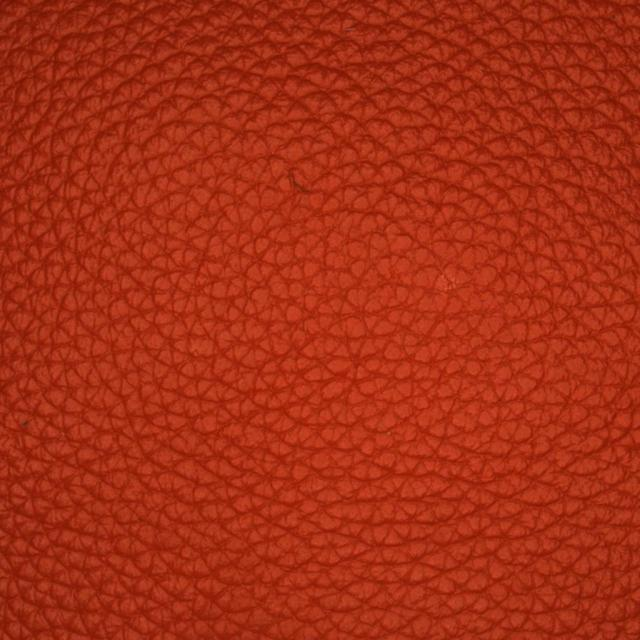Scratch: (206, 98, 384, 267)
